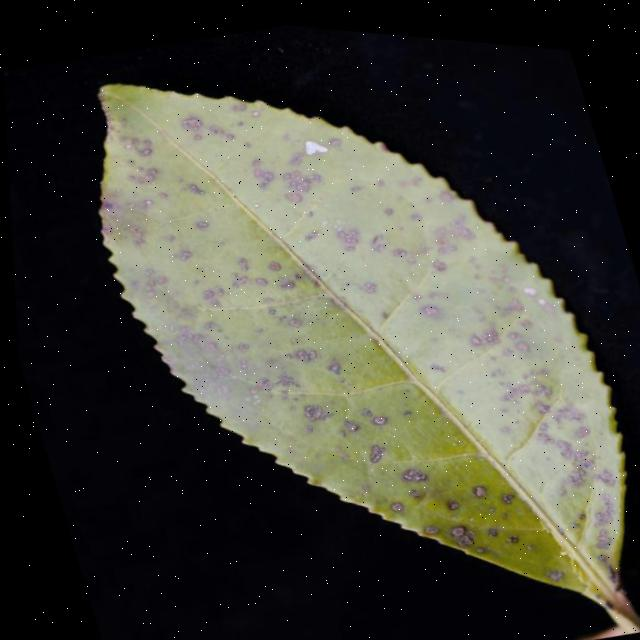Tea red rust: (68, 30, 610, 640)
